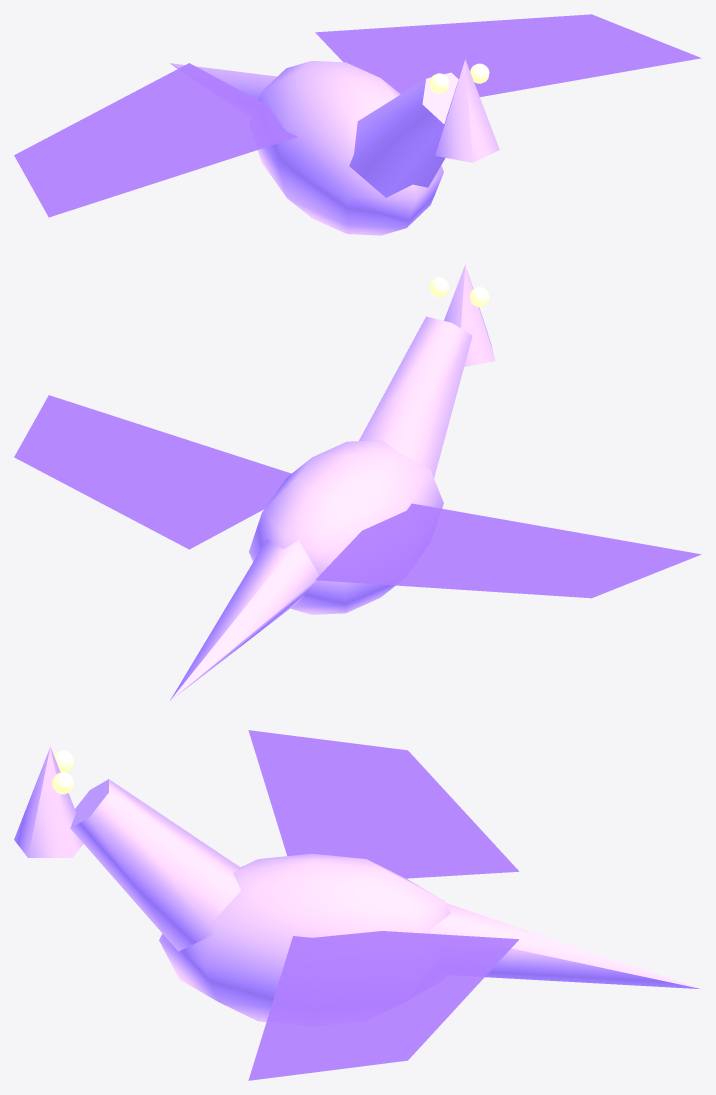
File: dragon.glb
3 renders of one model, top to bottom at view 1: azimuth 30°, elevation 25°; view 2: azimuth 150°, elevation 25°; view 3: azimuth 270°, elevation 25°, orthographic. The views are drawn at different scales.
Visible parts, largest first — view 1: dragon, wing_L, wing_R; view 2: dragon, wing_L, wing_R; view 3: dragon, wing_R, wing_L.
Part boxes in pixels (x1,y1,x2,y2): dragon: (170,59,499,235); wing_L: (14,63,297,217); wing_R: (315,14,701,96); dragon: (169,264,495,701); wing_L: (315,503,701,598); wing_R: (14,395,291,549); dragon: (14,747,701,1021); wing_R: (248,931,518,1080); wing_L: (248,730,518,878).
Size of the model in its own units: 2.6 by 0.942 by 2.16.
